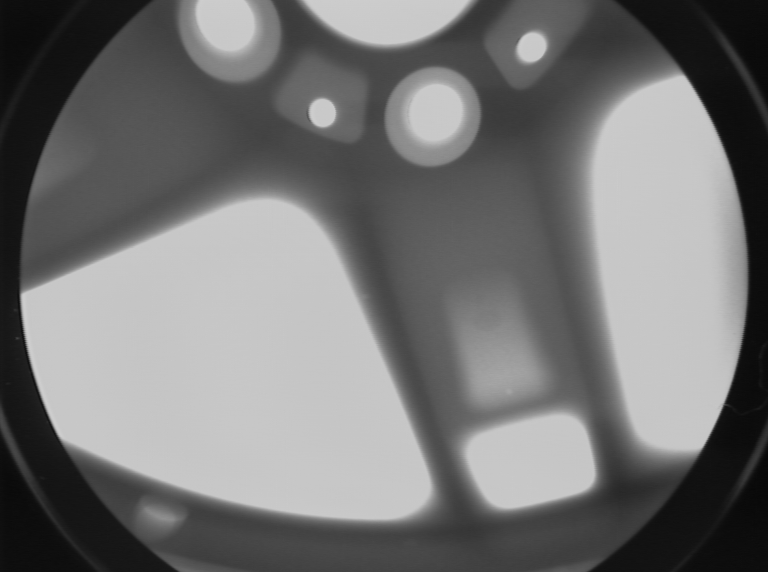defect: (356, 287, 373, 309)
